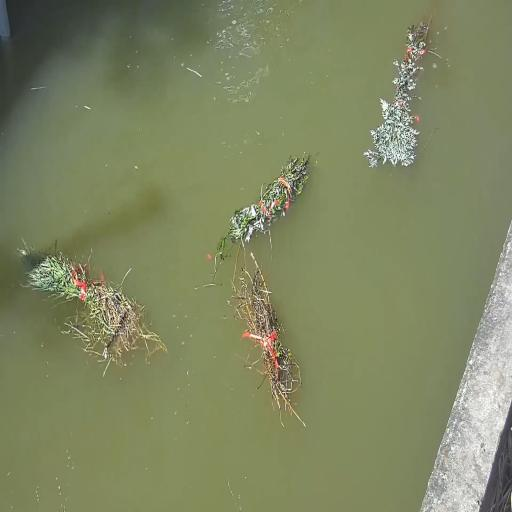twig: (15, 237, 168, 377), (233, 250, 305, 426), (215, 153, 310, 271), (364, 14, 431, 167)
